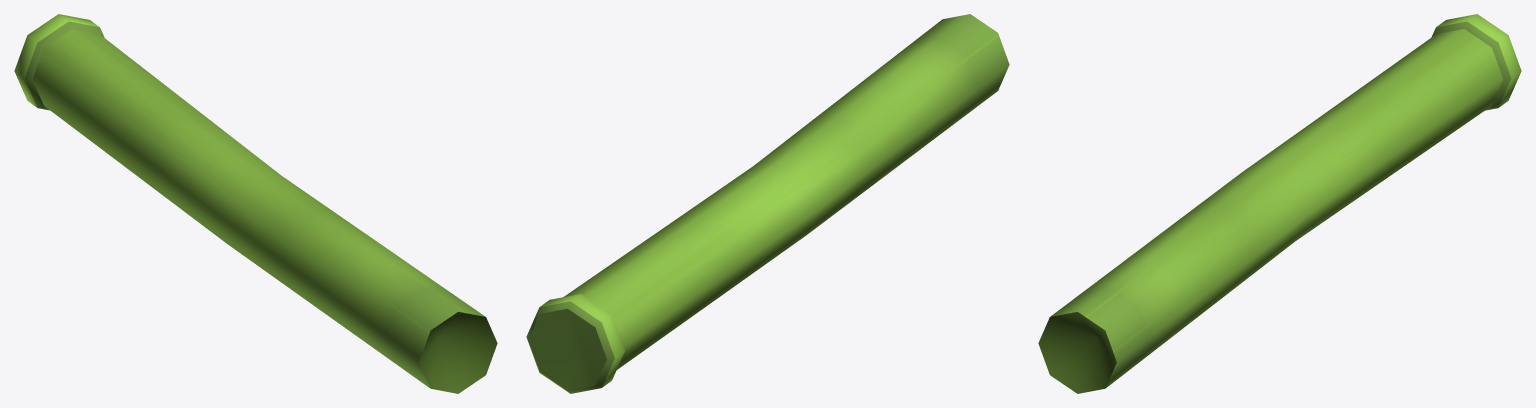
The model's file is bamboo_pole_1.fbx.
The picture shows the model from 3 angles, left to right: view 1: azimuth 30°, elevation 25°; view 2: azimuth 150°, elevation 25°; view 3: azimuth 330°, elevation 25°; orthographic projection.
Parts seen in each view (by area): view 1: Cylinder.017; view 2: Cylinder.017; view 3: Cylinder.017.
Boxes of the visible parts, left/top/right/bottom form: Cylinder.017: left=14, top=14, right=497, bottom=393; Cylinder.017: left=526, top=14, right=1009, bottom=393; Cylinder.017: left=1038, top=14, right=1521, bottom=393.
Bounding box in the file's own units: 63.43 × 63.43 × 500.
